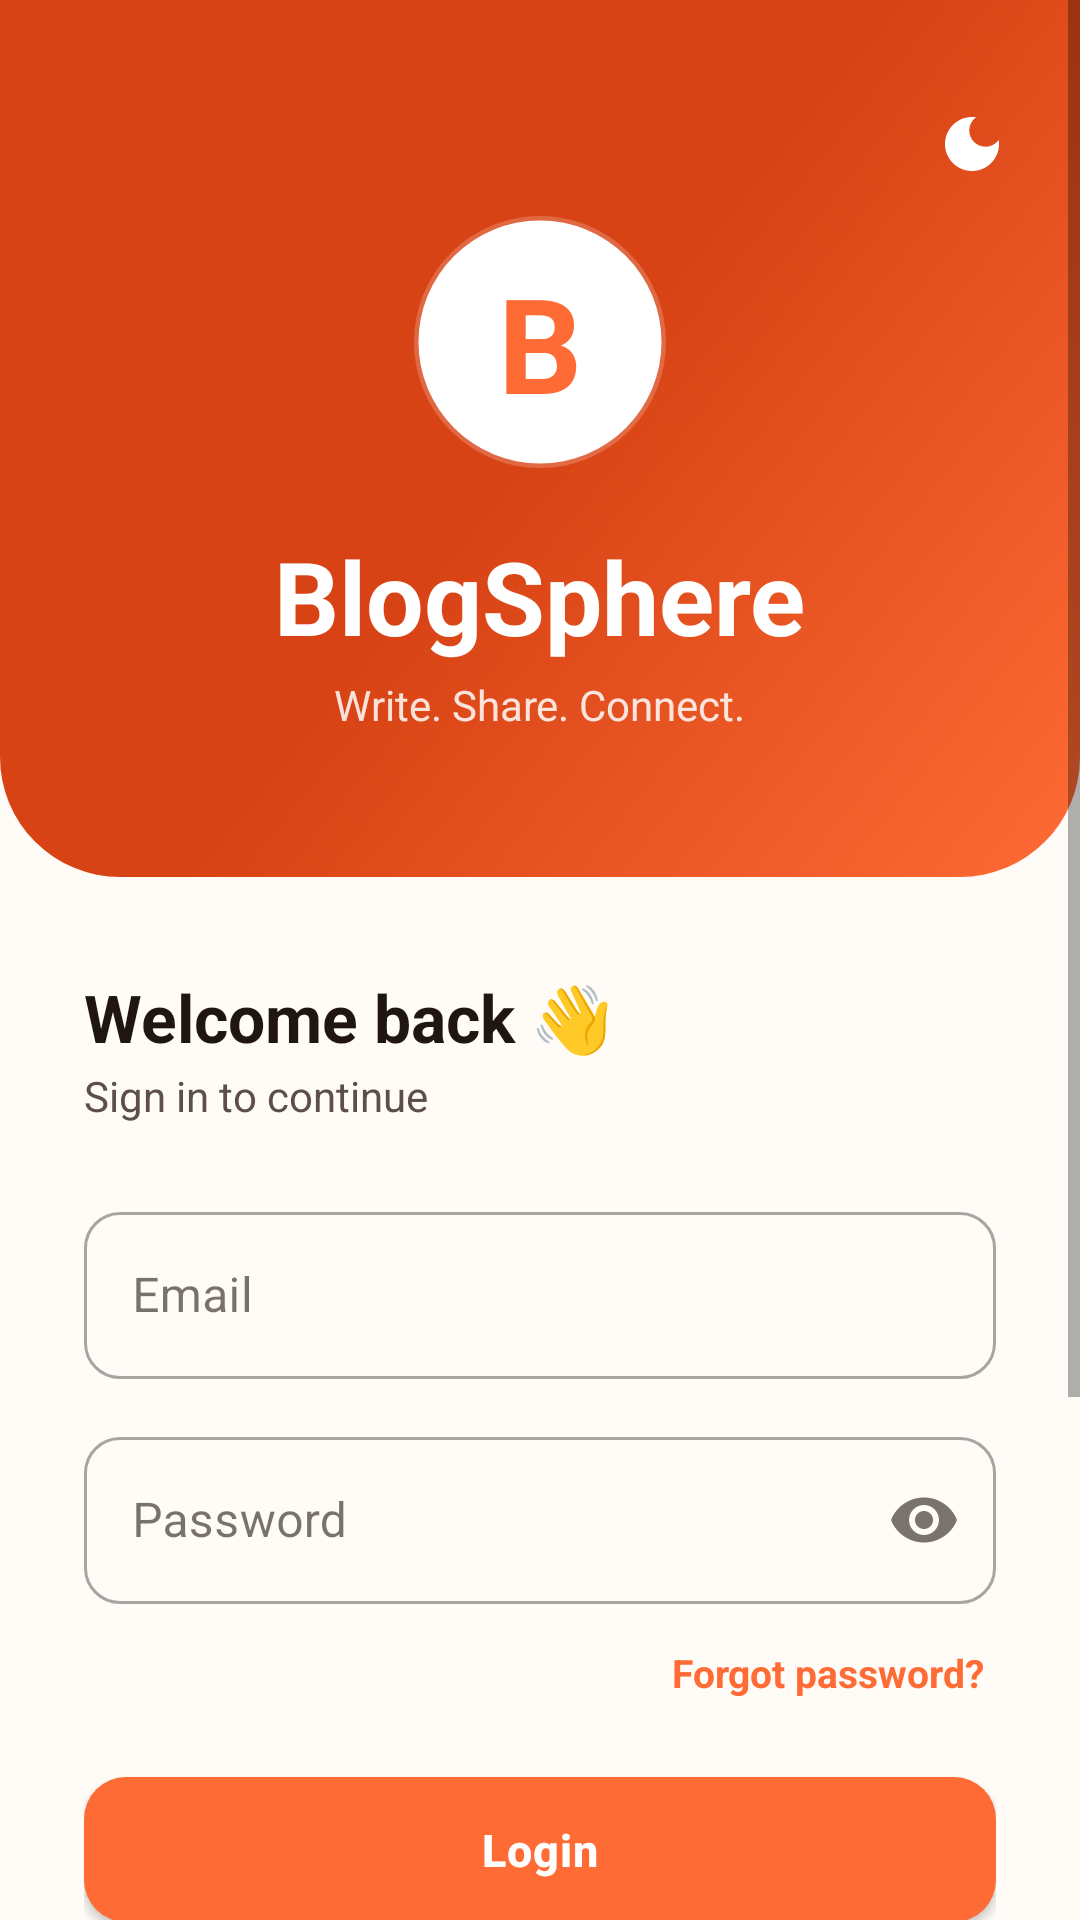

Named icons in this screenshot (1080×1920) and their bounding boxes, {"left": x1, "top": y1, "right": x2, "bottom": y2}:
Toggle light / dark theme: {"left": 945, "top": 117, "right": 999, "bottom": 171}
